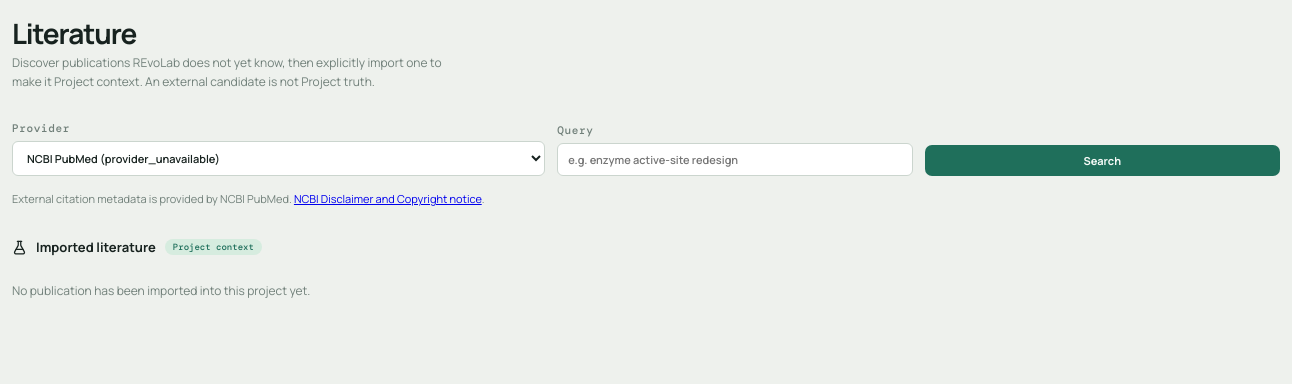
Test case: Literature view (Phase 13) › blocks search with an explicit message when the provider is unavailable
Step 1. Type "enzyme" into the field named "Literature search query" → coordinates (735, 160), box x1=557 y1=143 x2=912 y2=176
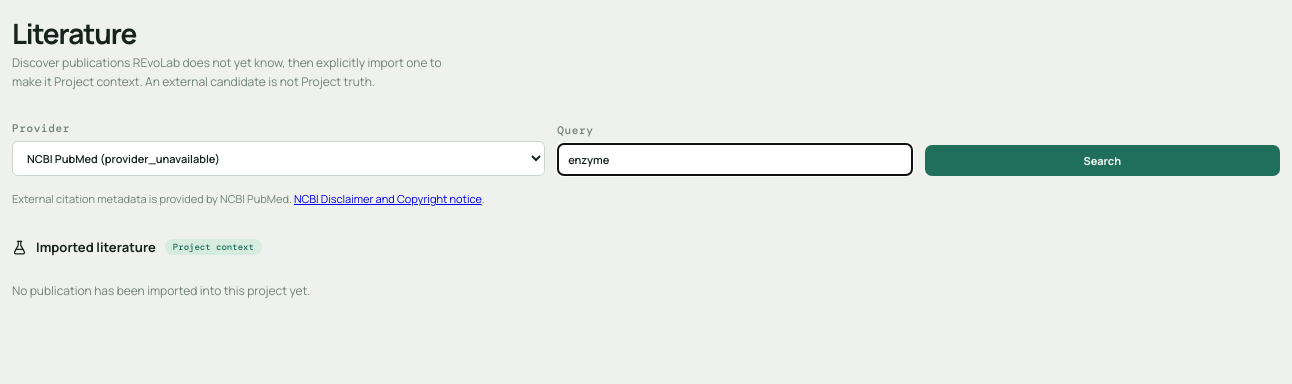
Step 2. Click the button "Search" → coordinates (1102, 161), box x1=925 y1=145 x2=1280 y2=176
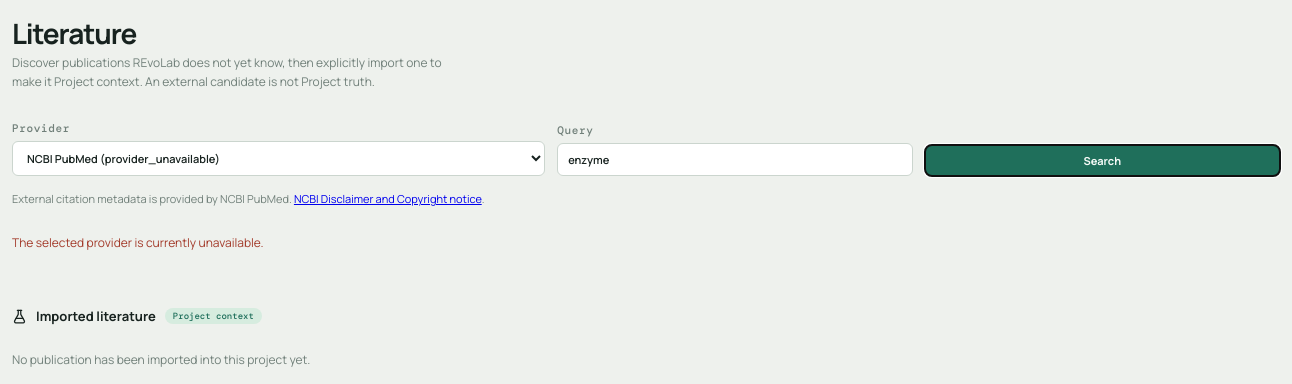
Check: the text "The selected provider is currently unavailable." is shown, box x1=12 y1=234 x2=264 y2=251
